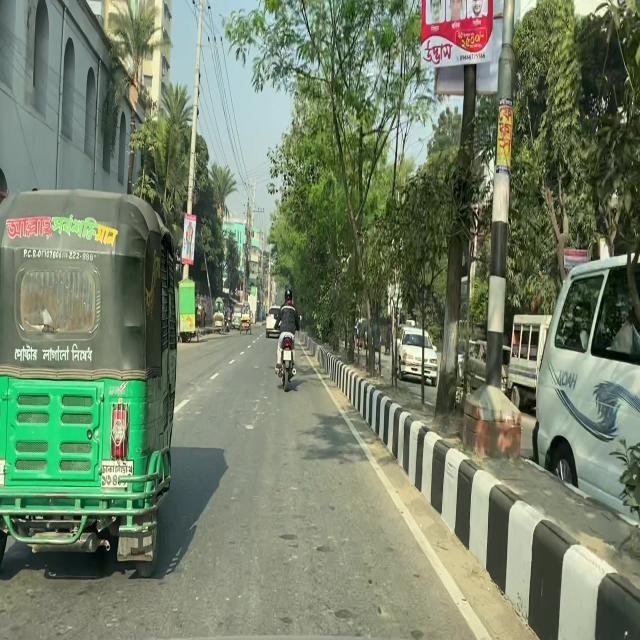car: (530, 244, 640, 596), (508, 311, 590, 427), (391, 325, 439, 389)
motorbike: (272, 311, 302, 394)
